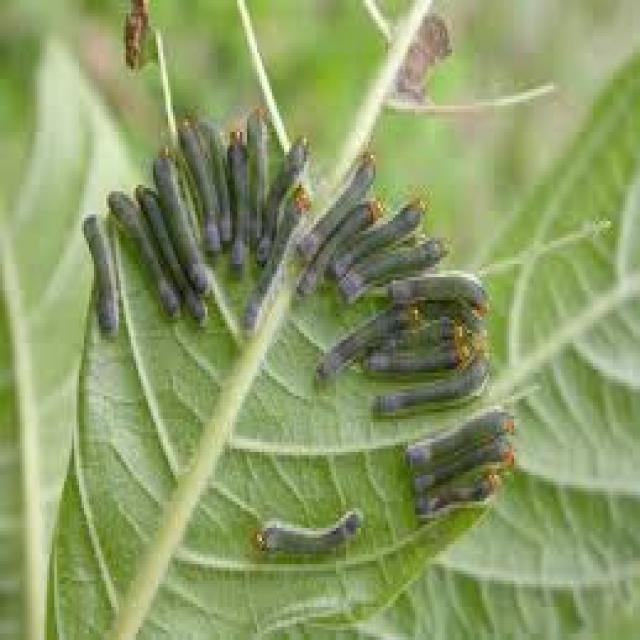Saw Fly: (132, 167, 213, 330), (98, 186, 185, 326), (328, 192, 436, 292), (372, 344, 500, 425), (149, 145, 217, 297), (247, 183, 314, 333), (313, 299, 418, 384), (403, 402, 520, 473), (256, 128, 314, 269), (339, 231, 451, 301), (178, 109, 226, 269), (250, 508, 365, 563), (76, 208, 123, 341), (363, 313, 472, 366), (384, 270, 494, 320), (412, 472, 499, 521), (244, 99, 270, 255), (227, 114, 249, 280)
